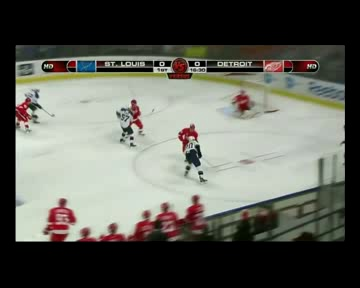normal: (171, 113, 215, 187), (15, 84, 52, 137)
